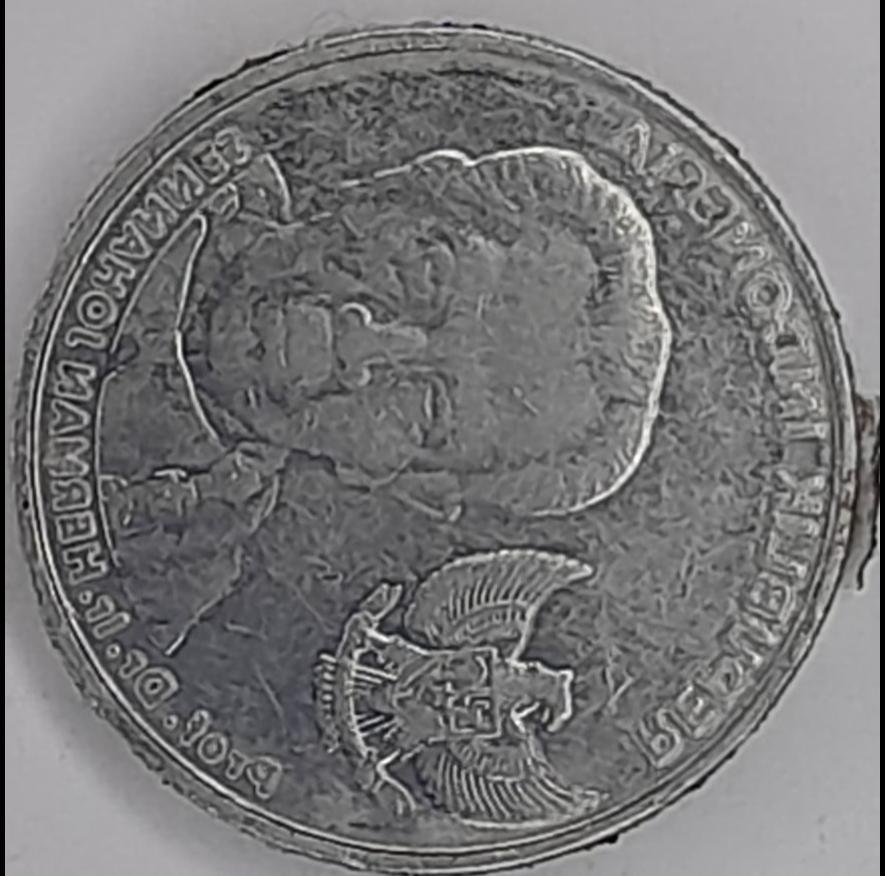coin_100_e2016: (9, 15, 881, 875)
